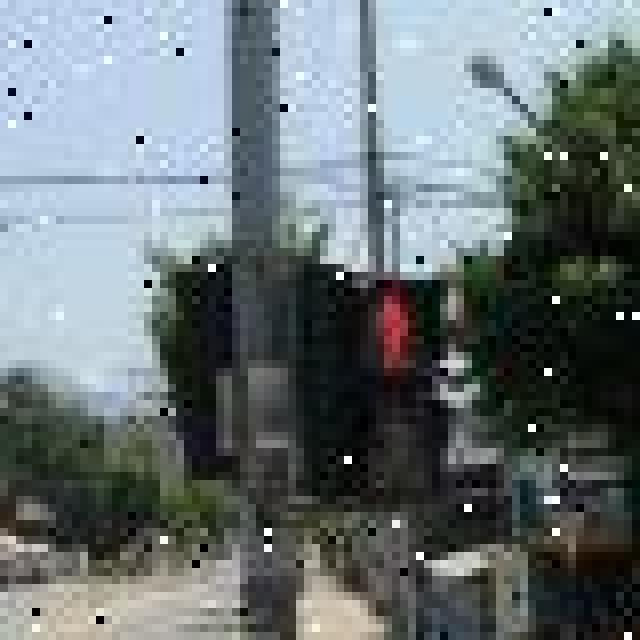redlight: (344, 281, 451, 519)
